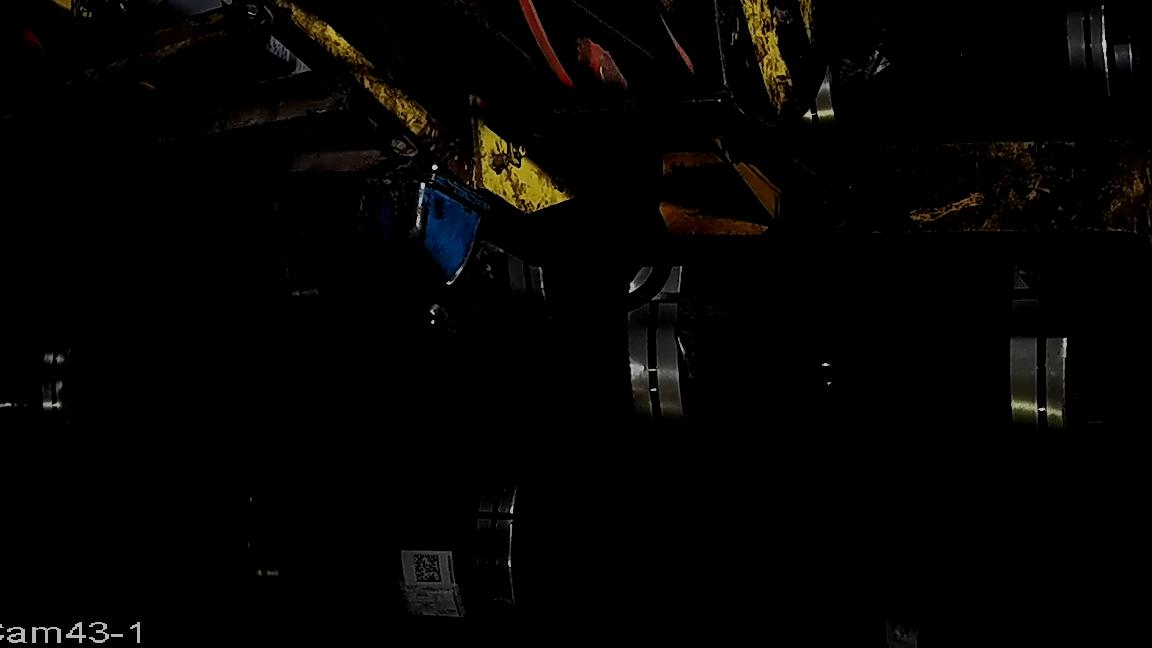data matrix: (412, 552, 445, 587)
